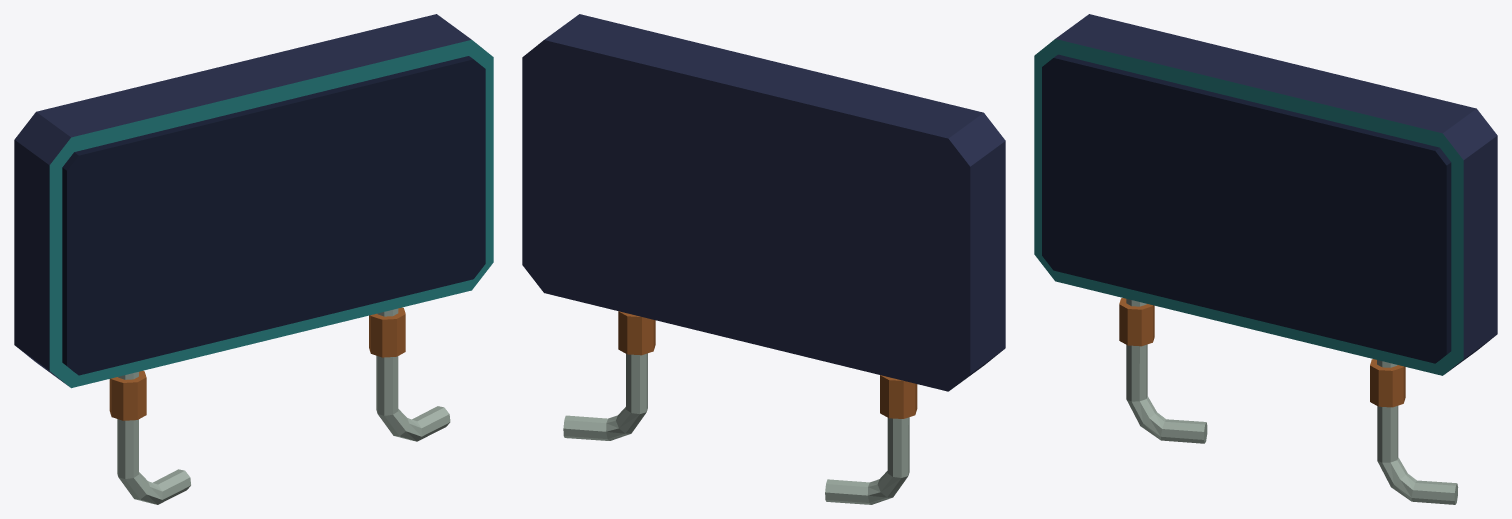
File: pressure_station.glb
3 views of the same model, side by side, from view 1: azimuth 30°, elevation 25°; view 2: azimuth 150°, elevation 25°; view 3: azimuth 330°, elevation 25° (orthographic). The views are drawn at different scales.
Parts seen in each view (by area): view 1: Face_seal, Gauge_box, Pressure_lines, Unions; view 2: Gauge_box, Pressure_lines, Unions; view 3: Face_seal, Gauge_box, Pressure_lines, Unions.
Boxes of the visible parts, x1,y1,x2,y2 form: Face_seal: [62, 56, 485, 375]; Gauge_box: [14, 14, 493, 388]; Pressure_lines: [117, 308, 450, 504]; Unions: [109, 307, 405, 420]; Gauge_box: [522, 14, 1005, 391]; Pressure_lines: [563, 353, 909, 504]; Unions: [618, 311, 917, 418]; Face_seal: [1042, 54, 1451, 363]; Gauge_box: [1034, 14, 1497, 375]; Pressure_lines: [1126, 299, 1458, 504]; Unions: [1119, 298, 1405, 407].
Bounding box in the file's own units: 1.13 × 0.9751 × 0.176.
